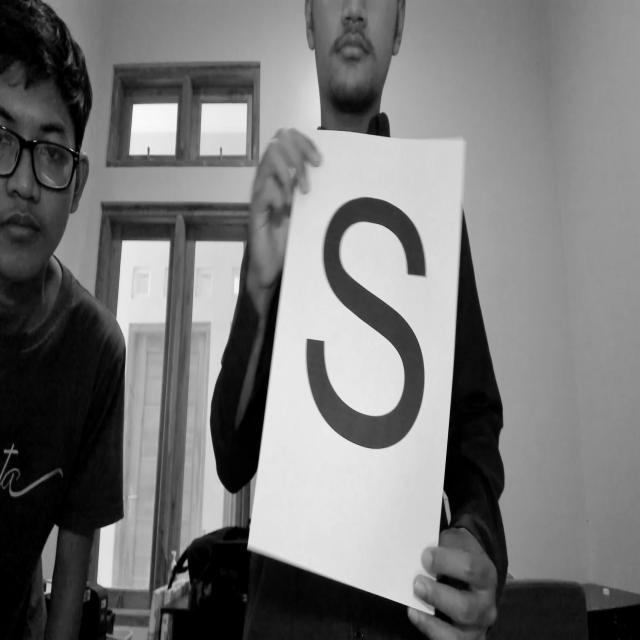s: (289, 173, 437, 489)
